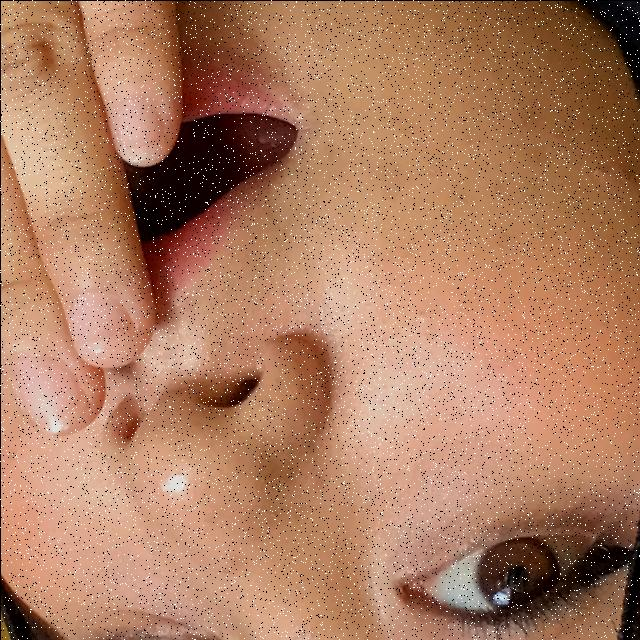ngantuk: (0, 0, 380, 504)
